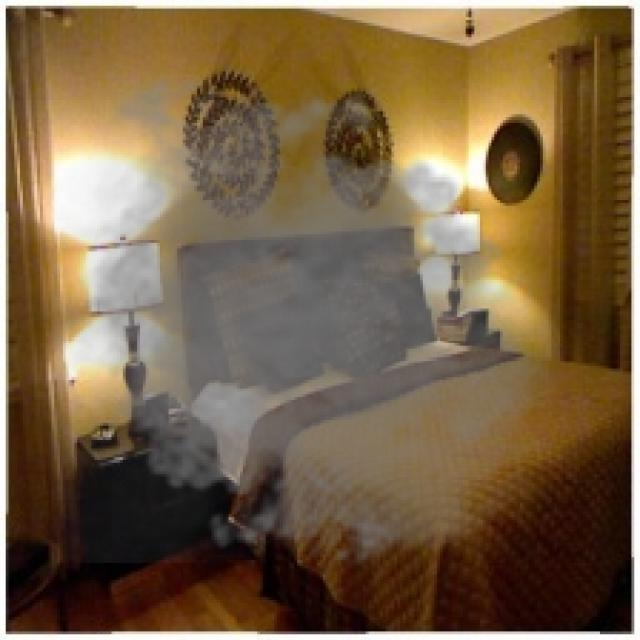Smoke: (51, 59, 578, 574)
